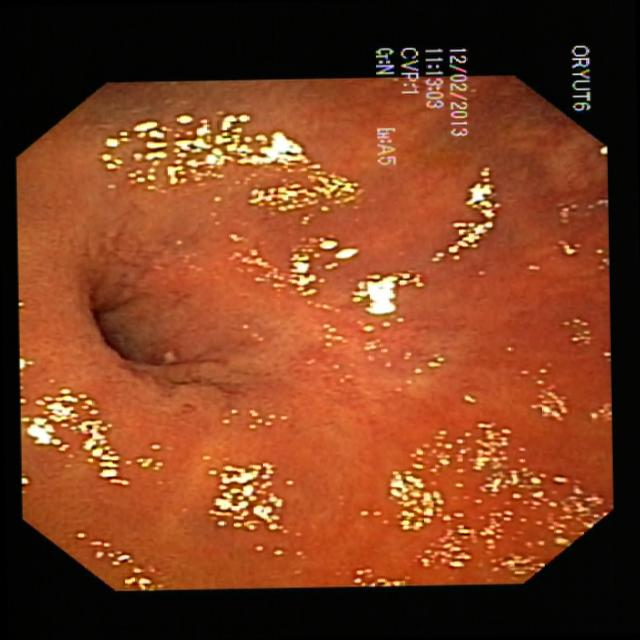ulcerative-colities: (14, 349, 276, 562), (70, 87, 364, 237)
